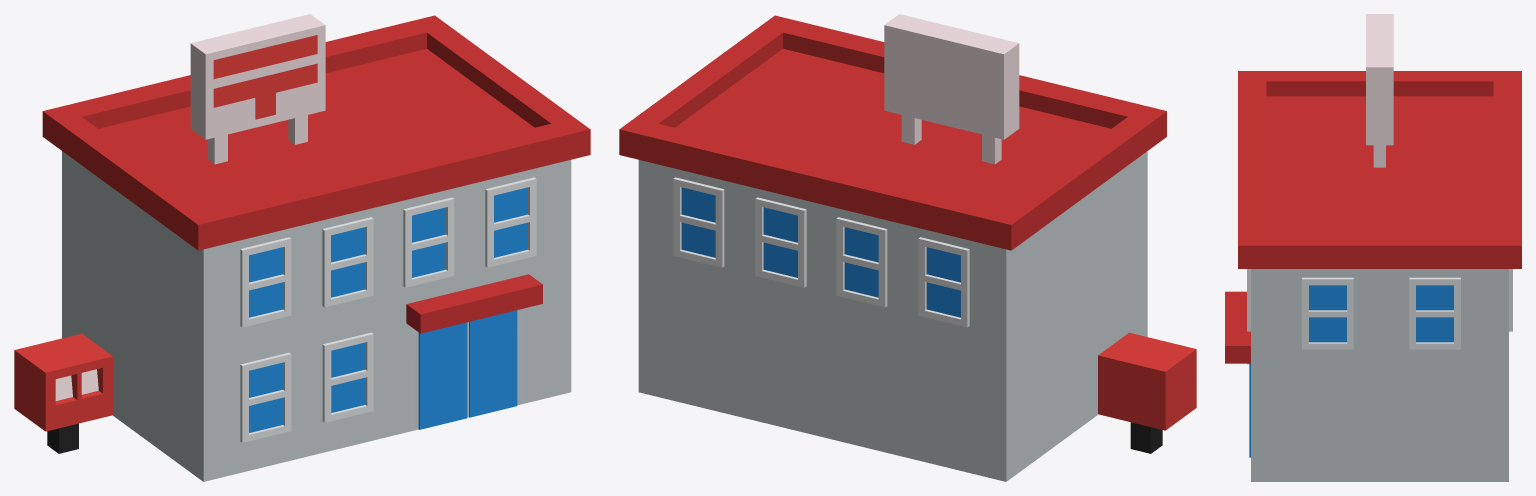
Rendered from japanese_post_office.glb.
3 renders of one model, left to right at view 1: azimuth 30°, elevation 25°; view 2: azimuth 150°, elevation 25°; view 3: azimuth 270°, elevation 25°, orthographic. The views are drawn at different scales.
Parts seen in each view (by area): view 1: Cube.484; view 2: Cube.484; view 3: Cube.484.
Part boxes in pixels (x1=…): Cube.484: x1=14, y1=14, x2=590, y2=481; Cube.484: x1=619, y1=14, x2=1196, y2=481; Cube.484: x1=1225, y1=14, x2=1521, y2=481.
Bounding box in the file's own units: 2.23 × 1.61 × 1.3.
Materials: 1 (1 with a texture image).
